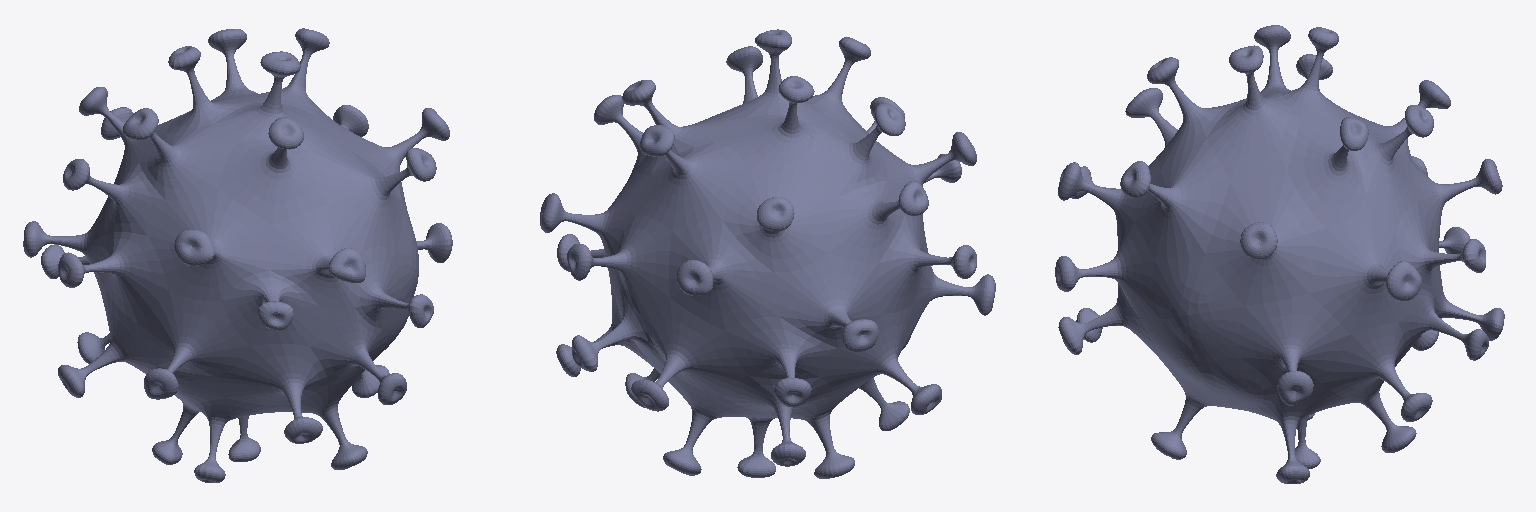
Rendered from virus.obj.
The picture shows the model from 3 angles: view 1: azimuth 30°, elevation 25°; view 2: azimuth 150°, elevation 25°; view 3: azimuth 270°, elevation 25°; orthographic projection.
Parts seen in each view (by area): view 1: GeoSphere004; view 2: GeoSphere004; view 3: GeoSphere004.
Boxes of the visible parts, <box> form: GeoSphere004: <box>23,28,452,482</box>; GeoSphere004: <box>540,29,995,478</box>; GeoSphere004: <box>1055,25,1504,483</box>.
Bounding box in the file's own units: 153 × 155 × 150.